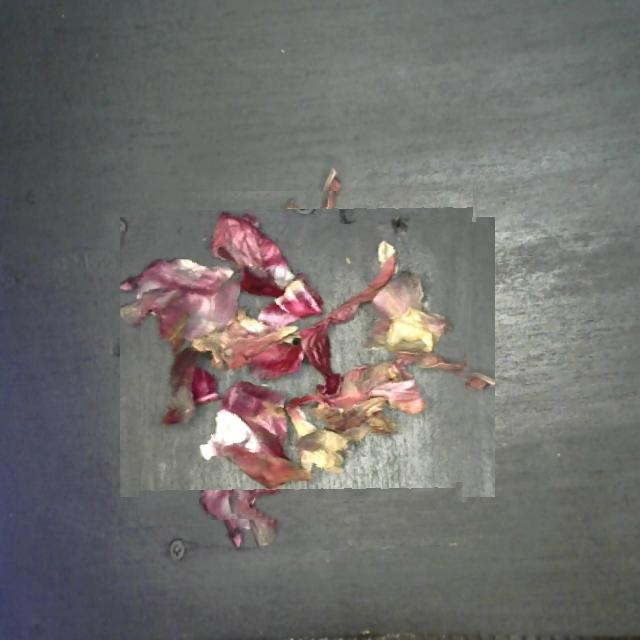biodegradable: (141, 191, 474, 524)
